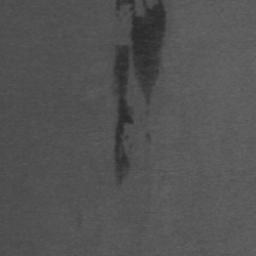Iron scale compression: (112, 0, 166, 188)
